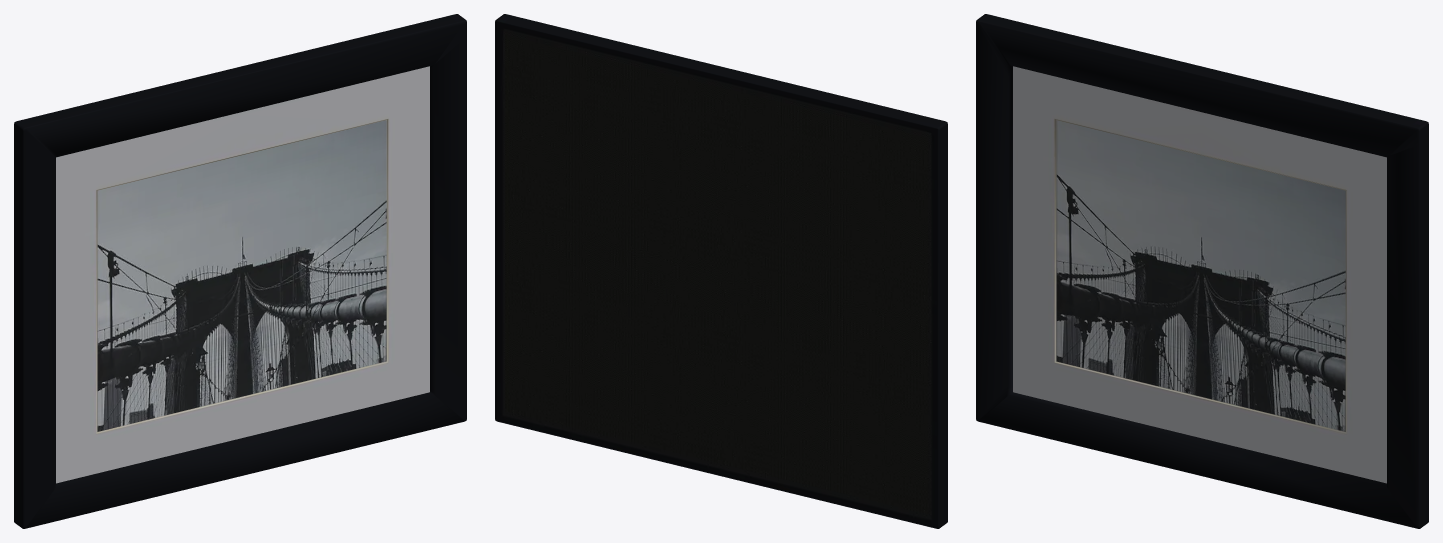
File: B073WQ8JNK.glb
3 views of the same model, side by side, from view 1: azimuth 30°, elevation 25°; view 2: azimuth 150°, elevation 25°; view 3: azimuth 330°, elevation 25° (orthographic).
Visible parts, largest first — view 1: RootNode; view 2: RootNode; view 3: RootNode.
Part boxes in pixels (<box>): RootNode: <box>14,14,466,528</box>; RootNode: <box>495,14,947,528</box>; RootNode: <box>976,14,1428,528</box>.
Bounding box in the file's own units: 0.5213 × 0.4499 × 0.0182.
Materials: 1 (1 with a texture image).
